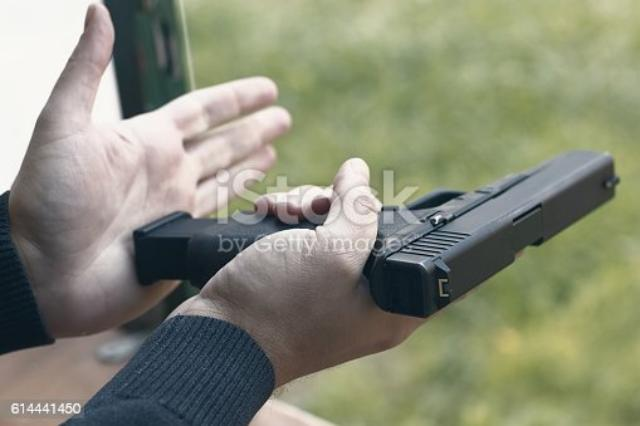handgun: (125, 143, 627, 323)
